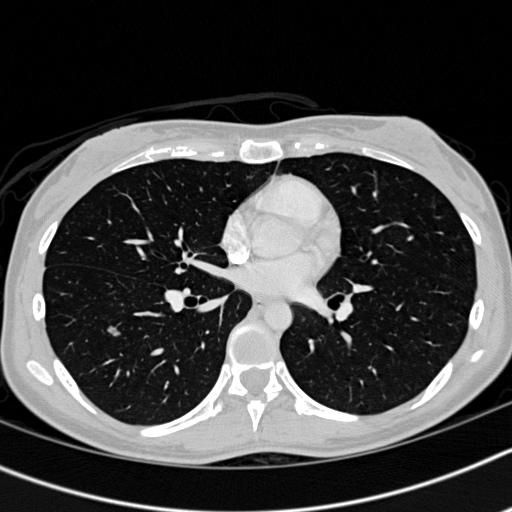nodule: (107, 324, 122, 339)
